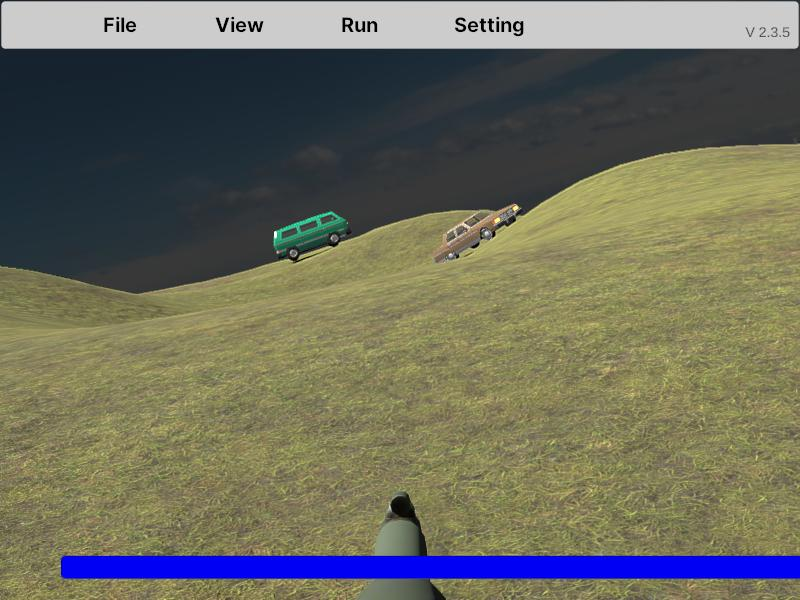car: (273, 211, 349, 262), (434, 212, 497, 264)
